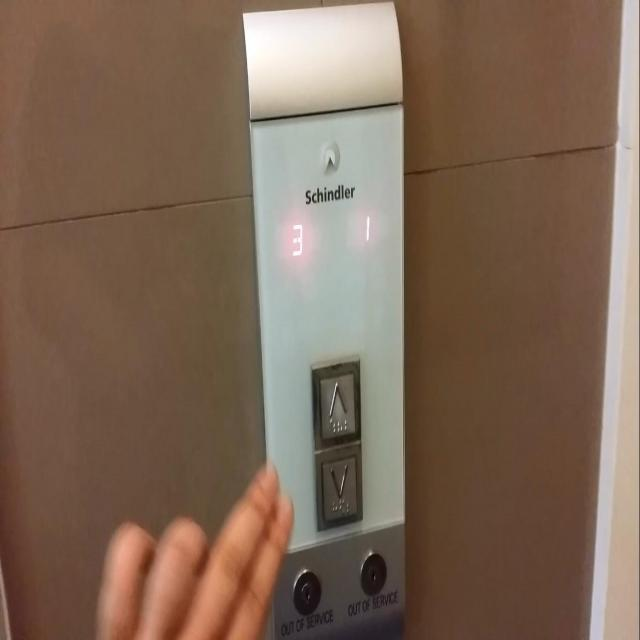down: (312, 440, 363, 534)
keyhole: (290, 566, 323, 616), (358, 547, 387, 598)
up: (308, 351, 365, 452)
